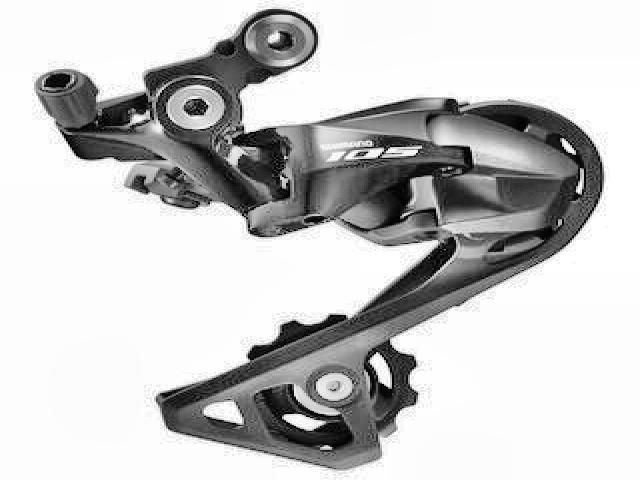rear_derailleur: (25, 9, 607, 470)
